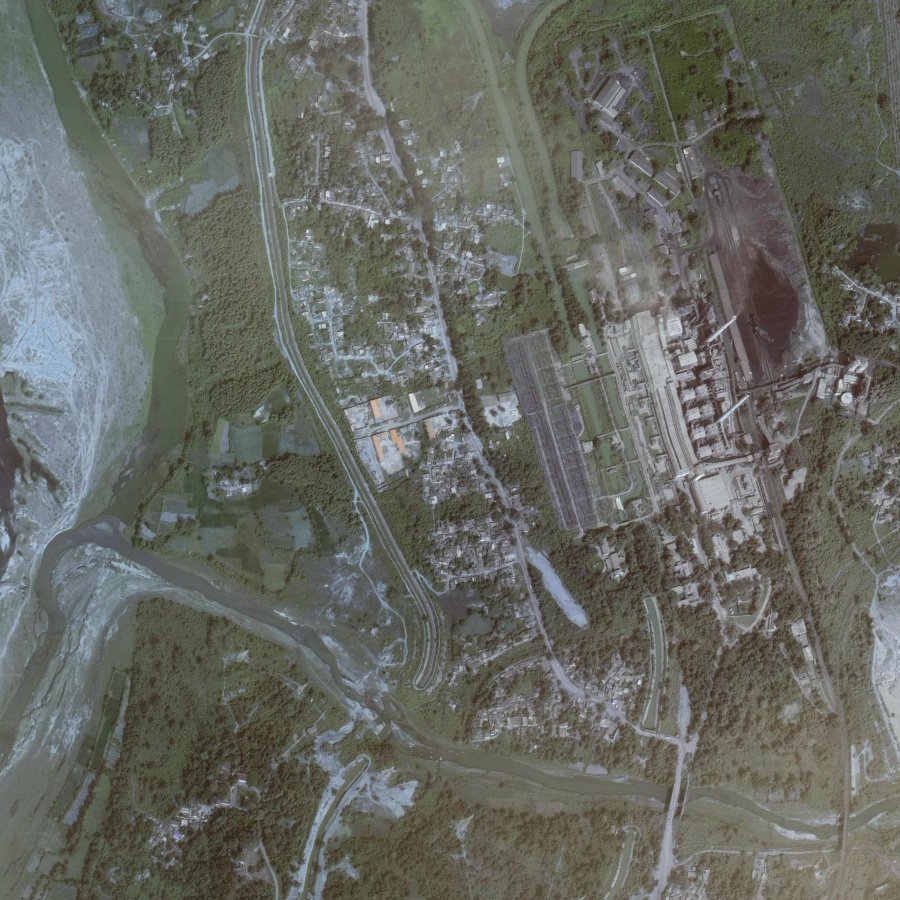PowerPlant: (612, 160, 809, 458)
